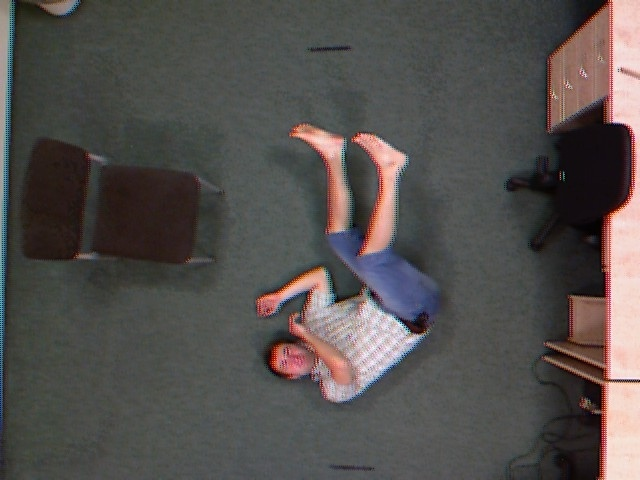fall: (245, 119, 454, 409)
